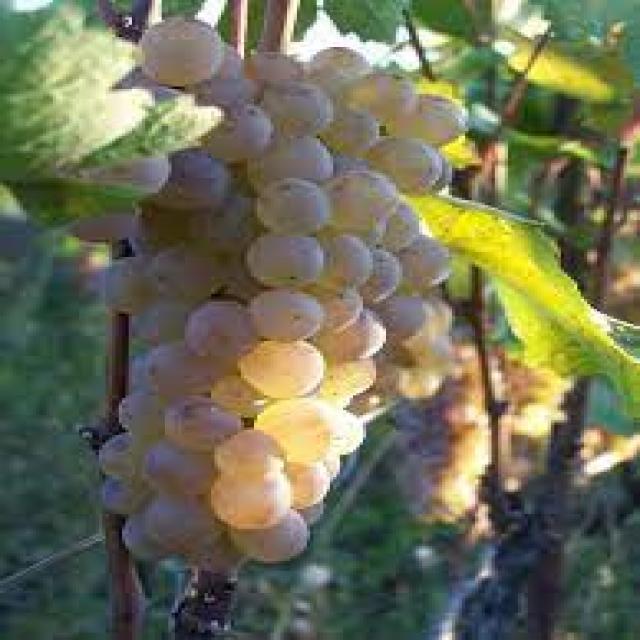grape: (86, 17, 458, 588)
